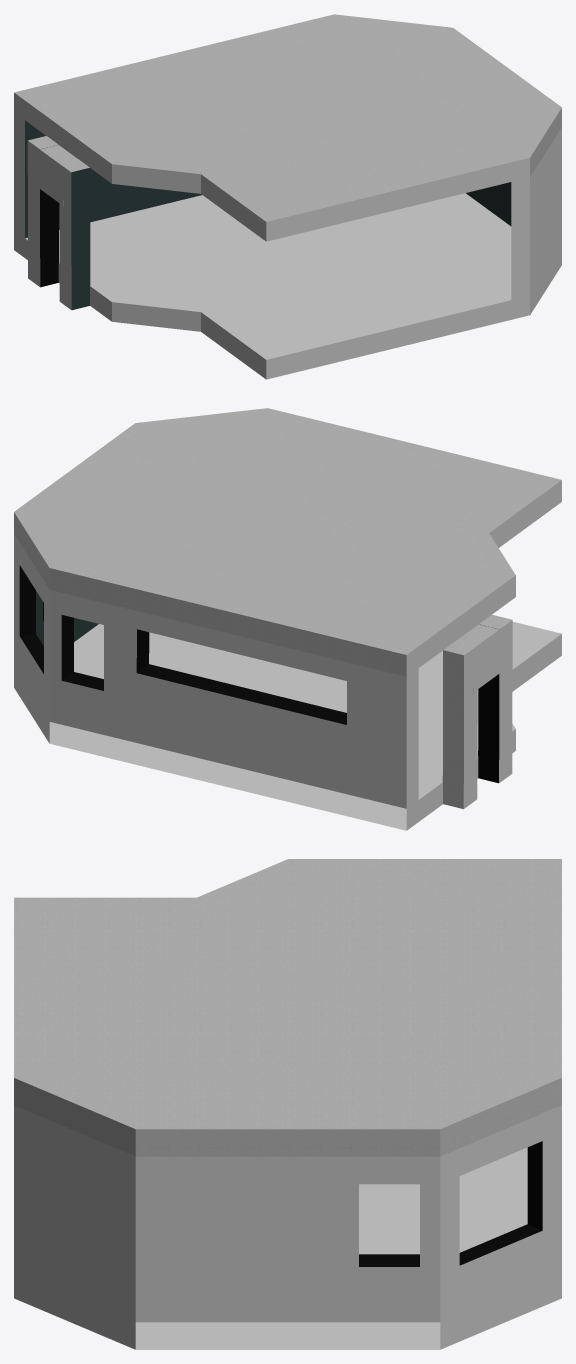
Rendered from Bedroom Structure.fbx.
3 views of the same model, one above another, from view 1: azimuth 30°, elevation 25°; view 2: azimuth 150°, elevation 25°; view 3: azimuth 270°, elevation 25° (orthographic). The views are drawn at different scales.
Visible parts, largest first — view 1: mtr_wall_2 Mesh (1), Bedroom_mtr 9 Mesh (1), Wall Mesh (1), normalwall-1 Mesh (1), color2 Mesh (1), 2 Bathroom_mtr Mesh (1), Black Mesh (1); view 2: mtr_wall_2 Mesh (1), normalwall-1 Mesh (1), Wall Mesh (1), Bedroom_mtr 9 Mesh (1), Black Mesh (1), 2 Bathroom_mtr Mesh (1), color2 Mesh (1); view 3: mtr_wall_2 Mesh (1), normalwall-1 Mesh (1), Bedroom_mtr 9 Mesh (1), Wall Mesh (1), Black Mesh (1).
Part boxes in pixels (left/top/right/bottom): mtr_wall_2 Mesh (1): left=14, top=14, right=561, bottom=221; Bedroom_mtr 9 Mesh (1): left=25, top=193, right=511, bottom=359; Wall Mesh (1): left=14, top=93, right=529, bottom=379; normalwall-1 Mesh (1): left=14, top=112, right=561, bottom=314; color2 Mesh (1): left=25, top=120, right=511, bottom=310; 2 Bathroom_mtr Mesh (1): left=27, top=141, right=71, bottom=309; Black Mesh (1): left=40, top=145, right=58, bottom=287; mtr_wall_2 Mesh (1): left=14, top=408, right=561, bottom=808; normalwall-1 Mesh (1): left=14, top=534, right=418, bottom=808; Wall Mesh (1): left=49, top=480, right=561, bottom=830; Bedroom_mtr 9 Mesh (1): left=74, top=622, right=561, bottom=799; Black Mesh (1): left=19, top=565, right=499, bottom=783; 2 Bathroom_mtr Mesh (1): left=463, top=620, right=512, bottom=808; color2 Mesh (1): left=36, top=591, right=98, bottom=645; mtr_wall_2 Mesh (1): left=14, top=859, right=561, bottom=1156; normalwall-1 Mesh (1): left=14, top=1105, right=561, bottom=1349; Bedroom_mtr 9 Mesh (1): left=359, top=1147, right=527, bottom=1254; Wall Mesh (1): left=135, top=1322, right=440, bottom=1349; Black Mesh (1): left=359, top=1141, right=542, bottom=1266.
Size of what is drawn, in the model's own units: 22 by 7.99 by 18.
